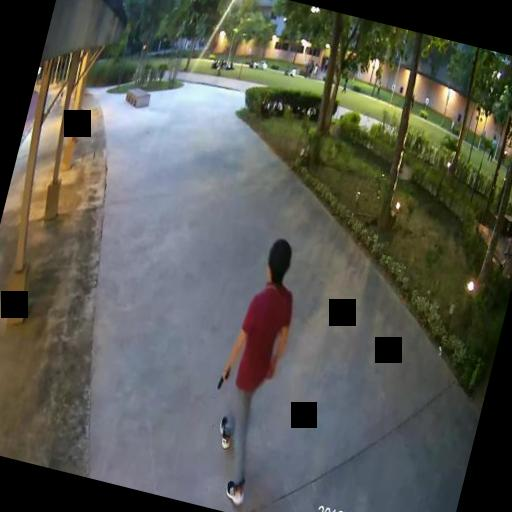Handgun: (216, 362, 230, 389)
